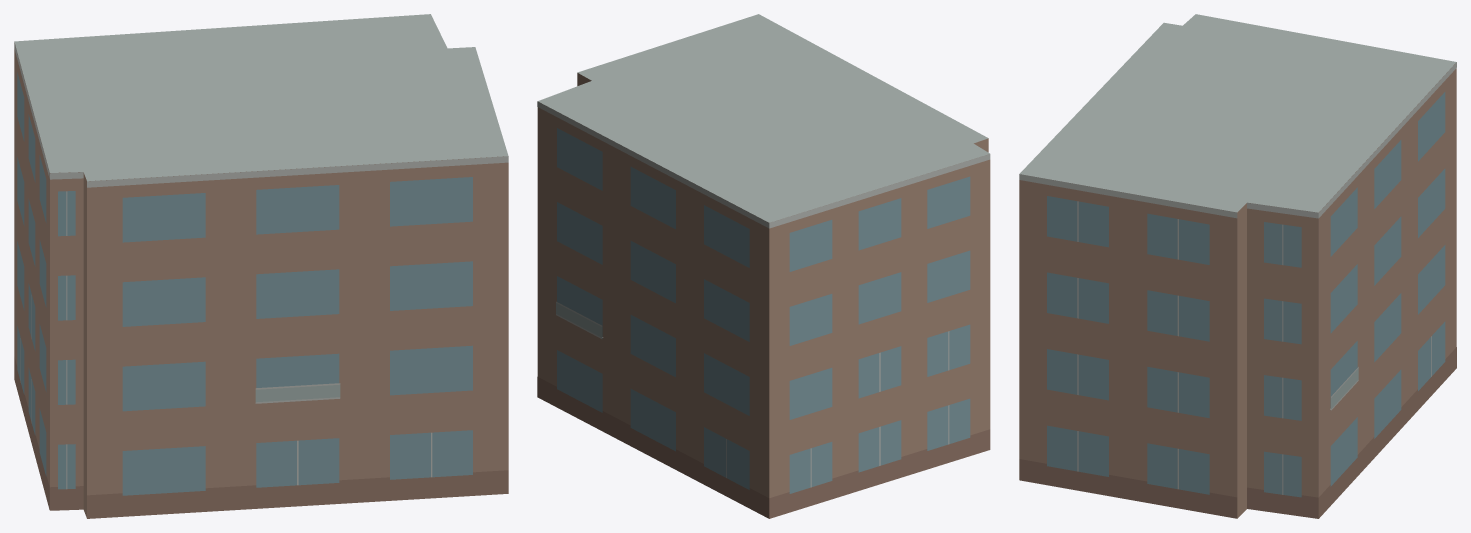
Rendered from survey-upis-32531914.glb.
3 renders of one model, left to right at view 1: azimuth 30°, elevation 25°; view 2: azimuth 150°, elevation 25°; view 3: azimuth 270°, elevation 25°, orthographic. The views are drawn at different scales.
Parts seen in each view (by area): view 1: survey-upis-32531914.tmp; view 2: survey-upis-32531914.tmp; view 3: survey-upis-32531914.tmp.
Boxes of the visible parts, x1,y1,x2,y2 form: survey-upis-32531914.tmp: (14,14,508,518); survey-upis-32531914.tmp: (537,14,990,518); survey-upis-32531914.tmp: (1019,14,1456,518).
Size of the model in its own units: 17.67 by 12.7 by 16.45.
